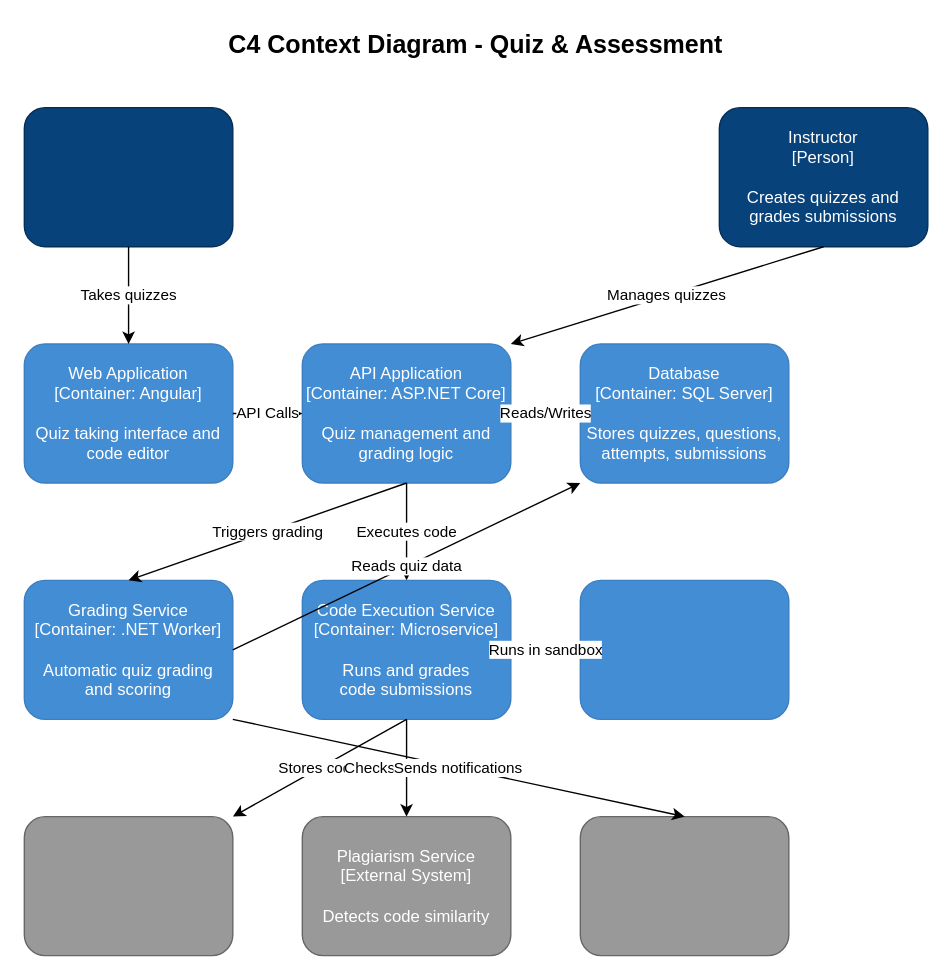
This 952x980 diagram has some shape labels left out. The box of each missing label's shape, as (x1, y1, x2, y2) in pixels:
Code Sandbox [Container: Docker] Isolated code execution environment: (579, 579, 789, 719)
File Storage [External System] Stores code submissions and images: (23, 815, 233, 956)
Notification Service [External System] Notifies students of graded results: (579, 815, 789, 956)
Student [Person] Takes quizzes and coding exercises: (23, 106, 233, 247)
